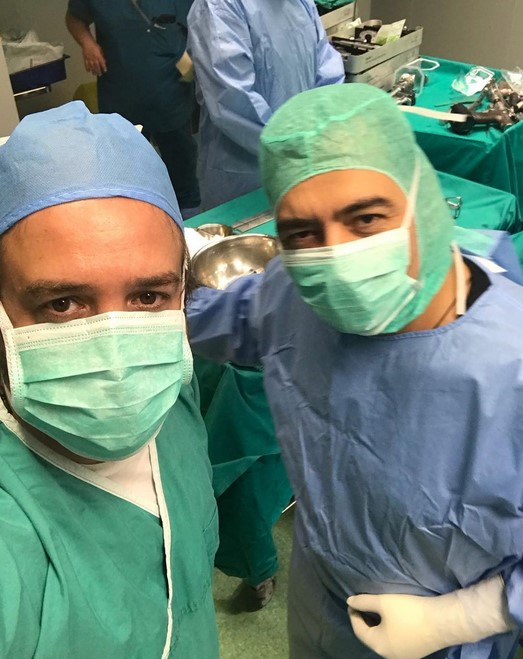face_with_mask: (2, 98, 196, 463), (262, 84, 456, 341)
